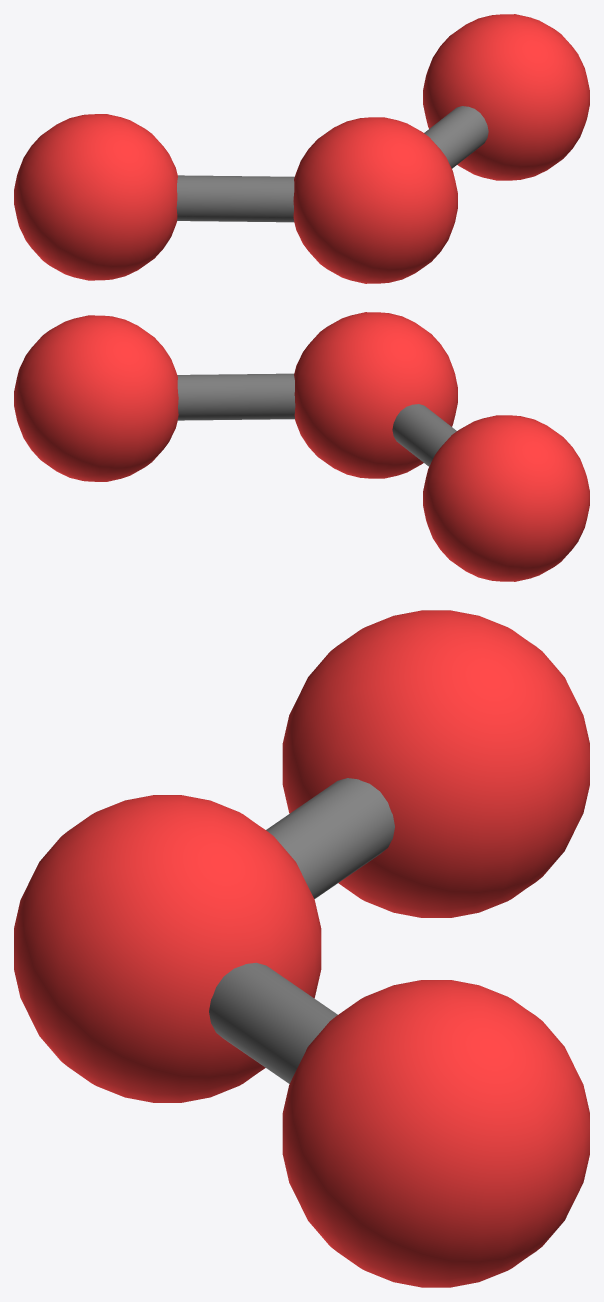
The model's file is 08_O3_BaS.fbx.
The picture shows the model from 3 angles, top to bottom: view 1: azimuth 30°, elevation 25°; view 2: azimuth 150°, elevation 25°; view 3: azimuth 270°, elevation 25°; orthographic projection. The views are drawn at different scales.
Parts seen in each view (by area): view 1: O.015, O.013, O.014, Bond.001.004, Bond.001.005; view 2: O.013, O.014, O.015, Bond.001.005, Bond.001.004; view 3: O.014, O.013, O.015, Bond.001.004, Bond.001.005.
Part boxes in pixels (x1,y1,x2,y2): O.015: [293, 117, 457, 283]; O.013: [14, 114, 177, 280]; O.014: [423, 14, 589, 180]; Bond.001.004: [176, 175, 294, 222]; Bond.001.005: [424, 106, 488, 168]; O.013: [423, 415, 589, 581]; O.014: [14, 315, 178, 481]; O.015: [294, 312, 457, 478]; Bond.001.005: [177, 373, 295, 420]; Bond.001.004: [392, 404, 456, 466]; O.014: [282, 980, 589, 1287]; O.013: [282, 610, 589, 917]; O.015: [14, 795, 321, 1102]; Bond.001.004: [266, 778, 394, 898]; Bond.001.005: [209, 962, 337, 1083].
Size of the model in its own units: 278 by 72.26 by 135.
